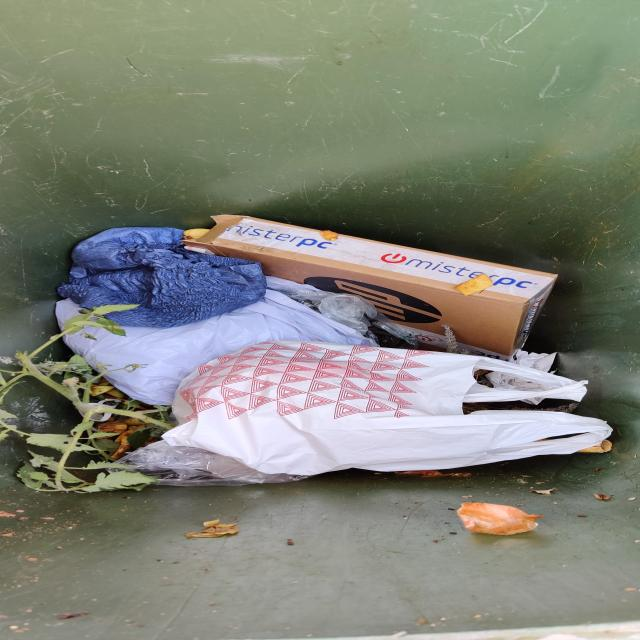litter: (49, 202, 616, 490)
